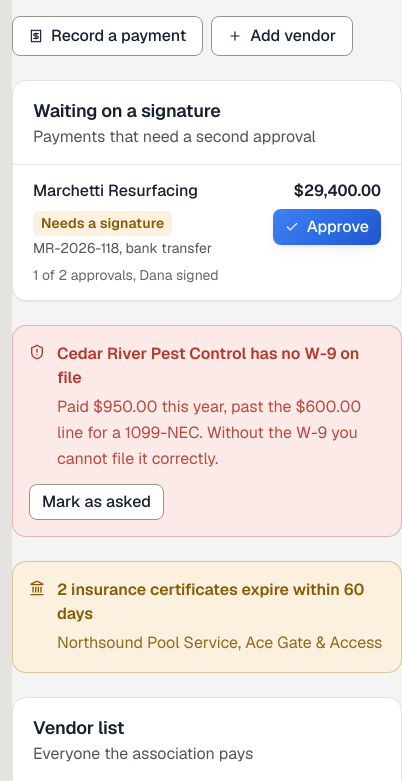
Test: Add vendor › labels a vendor saved with a category and no service by the category
Click the button "Add vendor": [282, 36] box [211,16,353,56]
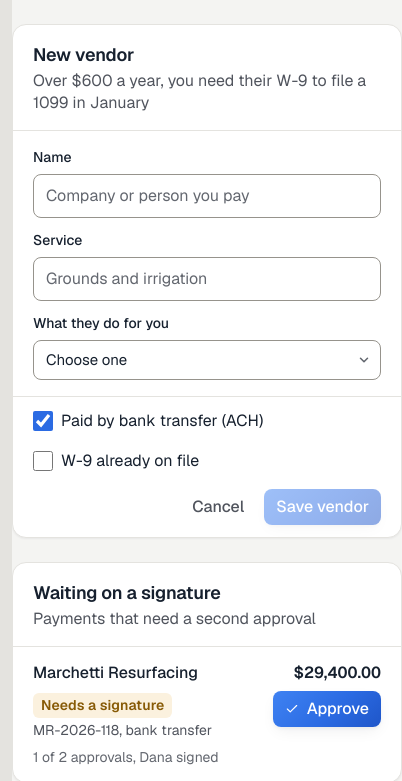
In the field with placeholder "Company or person you pay": [207, 196] box [33,174,381,218], type "Lakeside Pool Service"
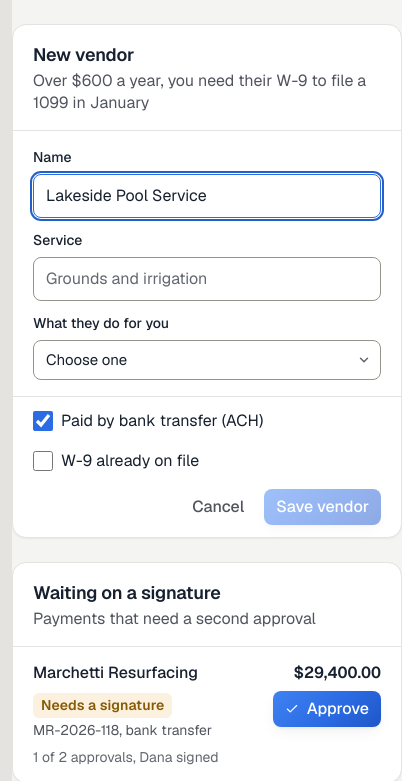
Select "Repairs & maintenance" in the dropdown labelled "What they do for you": [207, 360] box [33,340,381,380]
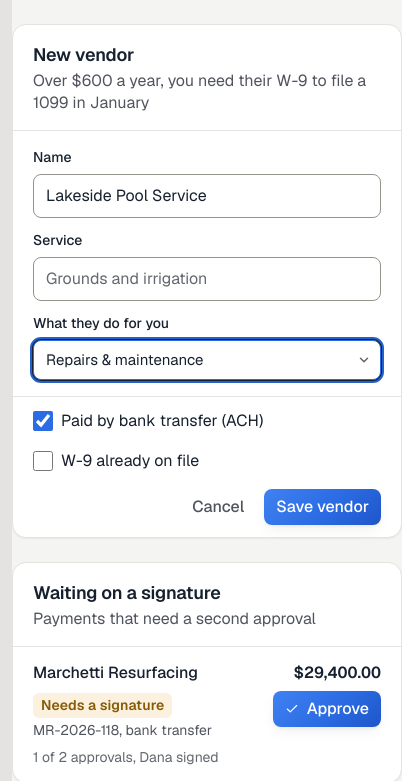
Click the button "Save vendor": [323, 507] box [264,489,381,525]
(page scrolled)
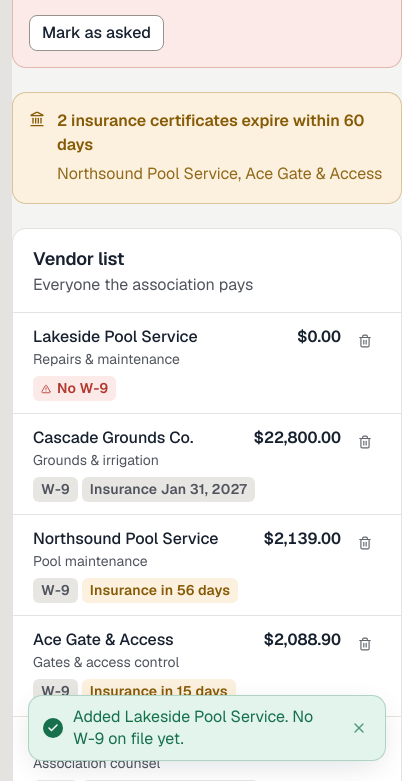
Result: the text "Repairs & maintenance" is shown at [33,350,180,368]
